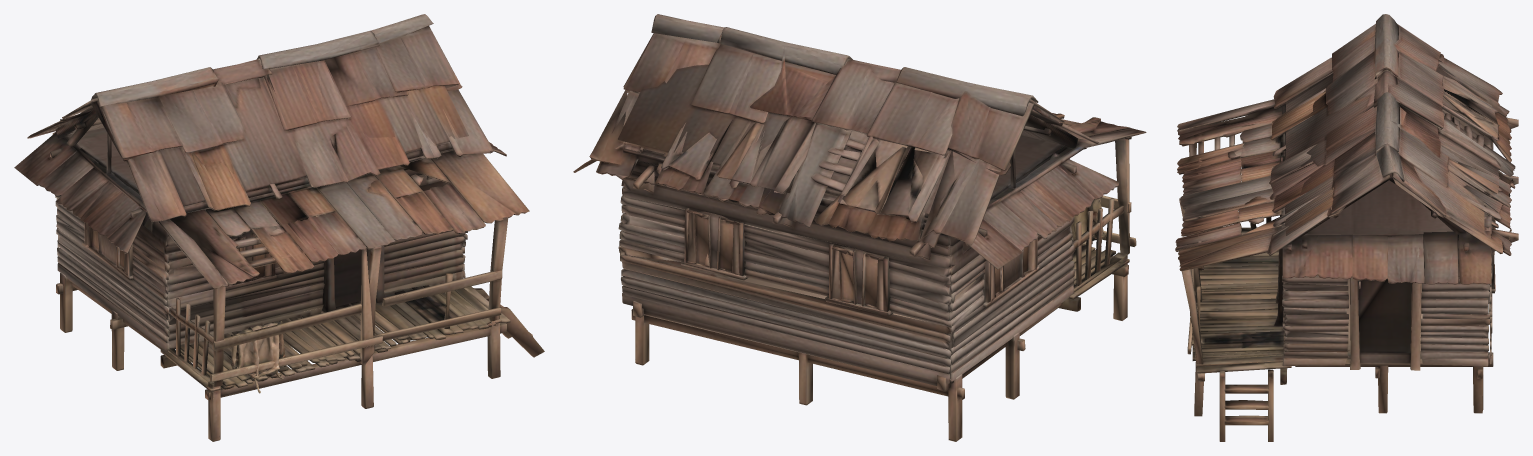
Rendered from low_poly_wooden_house_rusty_3d_model_free.glb.
3 views of the same model, side by side, from view 1: azimuth 30°, elevation 25°; view 2: azimuth 150°, elevation 25°; view 3: azimuth 270°, elevation 25° (orthographic). The views are drawn at different scales.
Visible parts, largest first — view 1: Model_0; view 2: Model_0; view 3: Model_0.
Boxes of the visible parts, x1=… form: Model_0: x1=14, y1=14, x2=544, y2=441; Model_0: x1=573, y1=14, x2=1146, y2=441; Model_0: x1=1175, y1=14, x2=1518, y2=441.
Size of the model in its own units: 1 by 0.7025 by 0.8199.
Materials: 1 (1 with a texture image).
